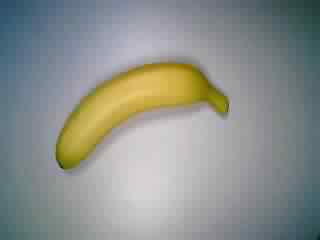banana: (52, 58, 235, 176)
